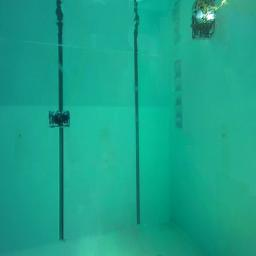front: (191, 14, 215, 39), (48, 110, 70, 128)
